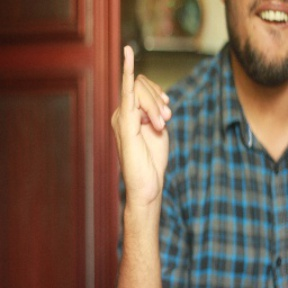I: (106, 43, 178, 203)
